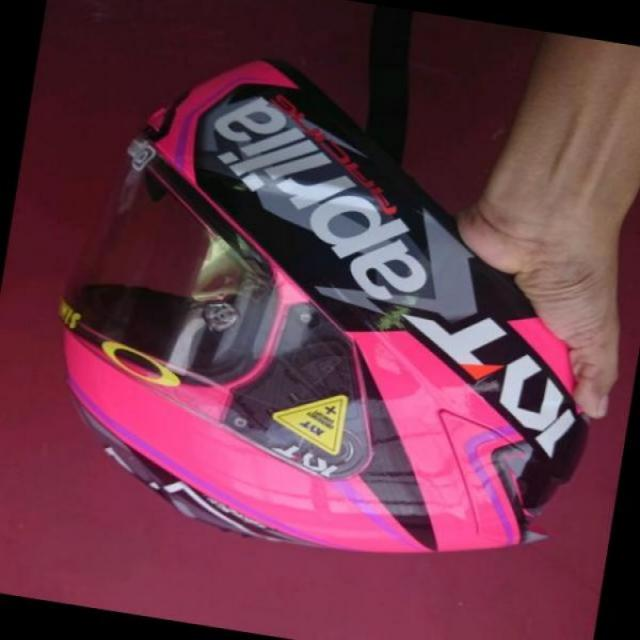Helmet: (61, 60, 594, 559)
